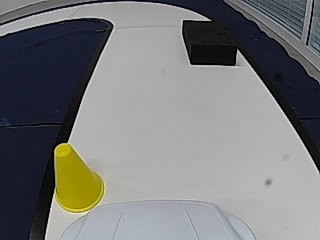block: (182, 20, 236, 65)
cone: (55, 144, 105, 212)
